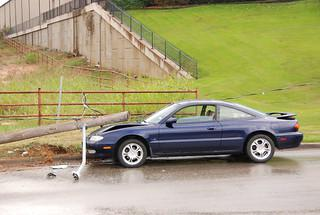bonnet-dent: (93, 118, 147, 132)
